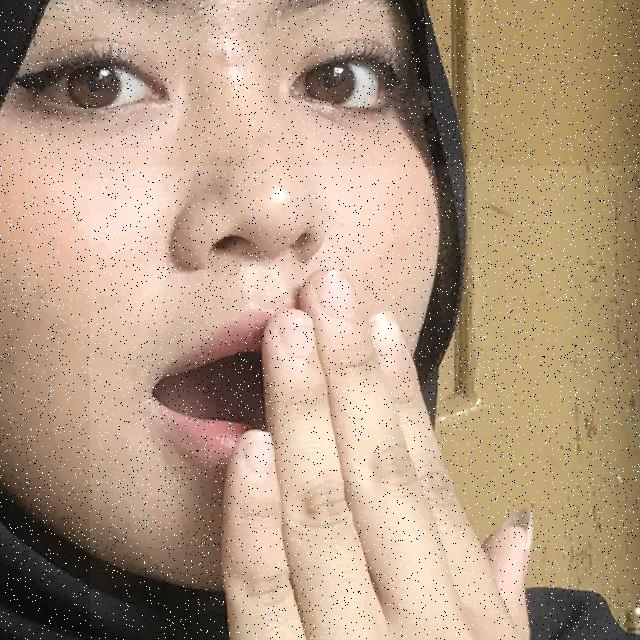ngantuk: (90, 166, 640, 640)
